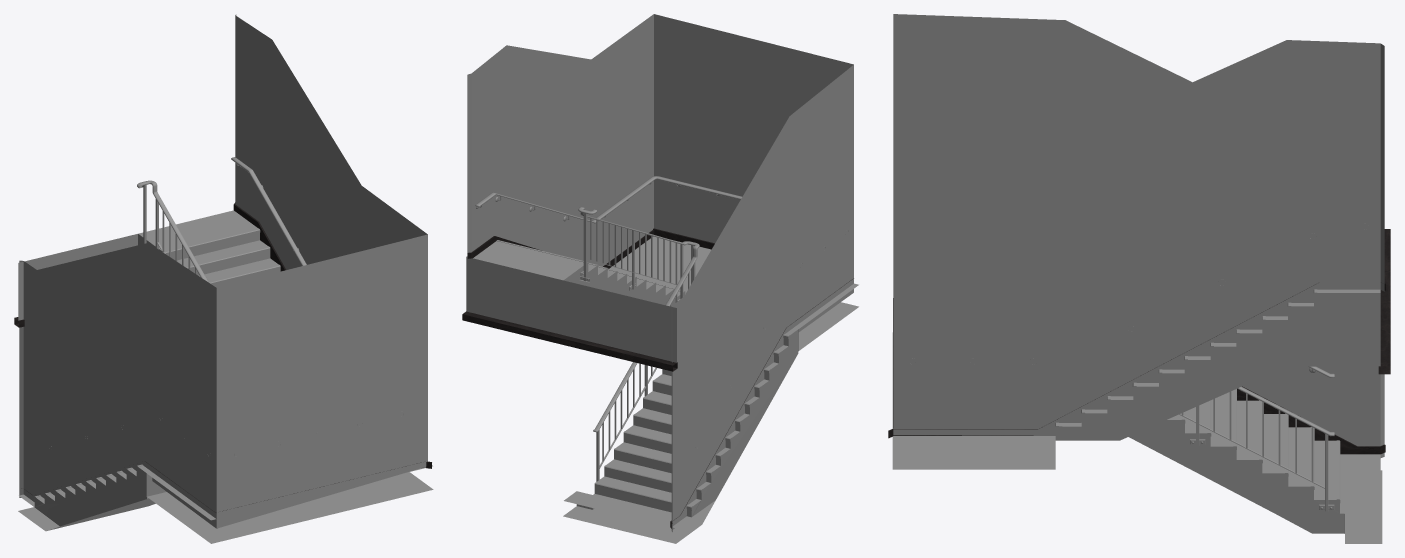
The model's file is StairsMod_Loop.FBX.
The picture shows the model from 3 angles, left to right: view 1: azimuth 30°, elevation 25°; view 2: azimuth 150°, elevation 25°; view 3: azimuth 270°, elevation 25°; orthographic projection. The views are drawn at different scales.
Parts seen in each view (by area): view 1: StairsMod_Loop, Stairs_RailingInside_Loop, StairsMod_StepProtectors, Stairs_RailingOutside; view 2: StairsMod_Loop, Stairs_RailingInside_Loop, StairsMod_StepProtectors, Stairs_RailingOutside; view 3: StairsMod_Loop, Stairs_RailingInside_Loop, StairsMod_StepProtectors.
Part boxes in pixels (box(x1,y1,x2,y2)): StairsMod_Loop: box(14, 14, 433, 543); Stairs_RailingInside_Loop: box(137, 180, 208, 282); StairsMod_StepProtectors: box(34, 228, 280, 499); Stairs_RailingOutside: box(51, 157, 306, 446); StairsMod_Loop: box(462, 14, 858, 543); Stairs_RailingInside_Loop: box(578, 207, 699, 481); StairsMod_StepProtectors: box(496, 240, 789, 509); Stairs_RailingOutside: box(475, 176, 848, 327); StairsMod_Loop: box(888, 14, 1390, 543); Stairs_RailingInside_Loop: box(1179, 386, 1334, 511); StairsMod_StepProtectors: box(1055, 289, 1340, 502).
Size of the model in its own units: 400 by 766 by 619.
